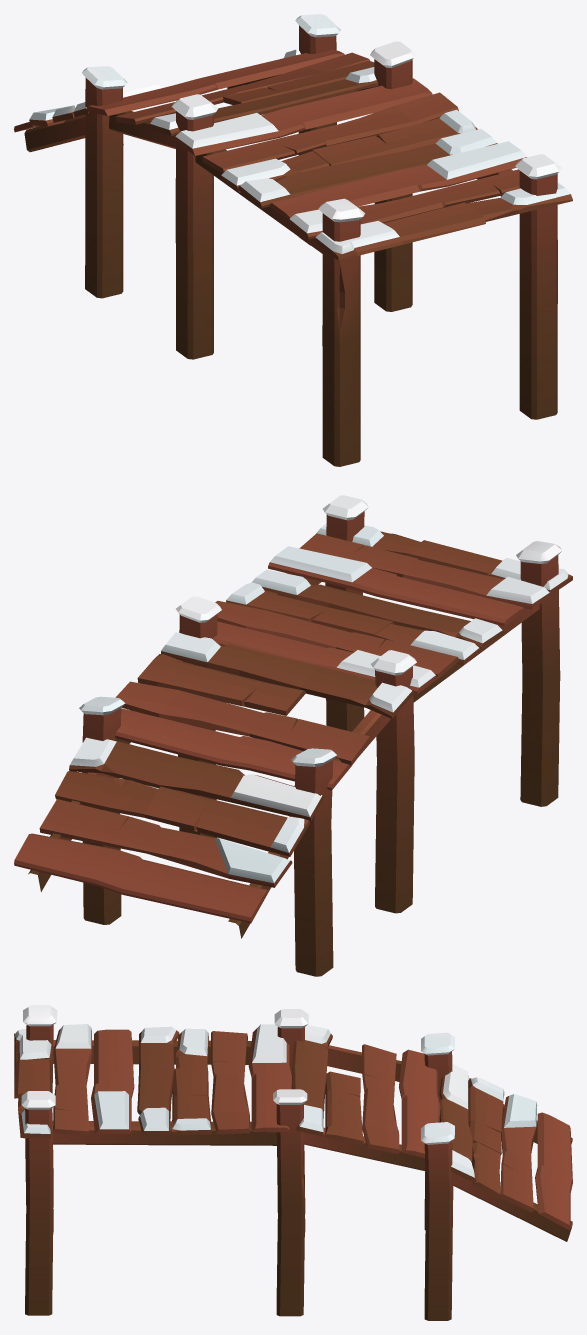
3 views of the same model, one above another, from view 1: azimuth 30°, elevation 25°; view 2: azimuth 150°, elevation 25°; view 3: azimuth 270°, elevation 25° (orthographic). The views are drawn at different scales.
Visible parts, largest first — view 1: SnowyPierStart; view 2: SnowyPierStart; view 3: SnowyPierStart.
Part boxes in pixels (x1,y1,x2,y2): SnowyPierStart: [14, 14, 572, 466]; SnowyPierStart: [14, 495, 572, 976]; SnowyPierStart: [14, 1005, 572, 1320].
Bounding box in the file's own units: 79.04 × 77.71 × 180.
Materials: 1 (1 with a texture image).
